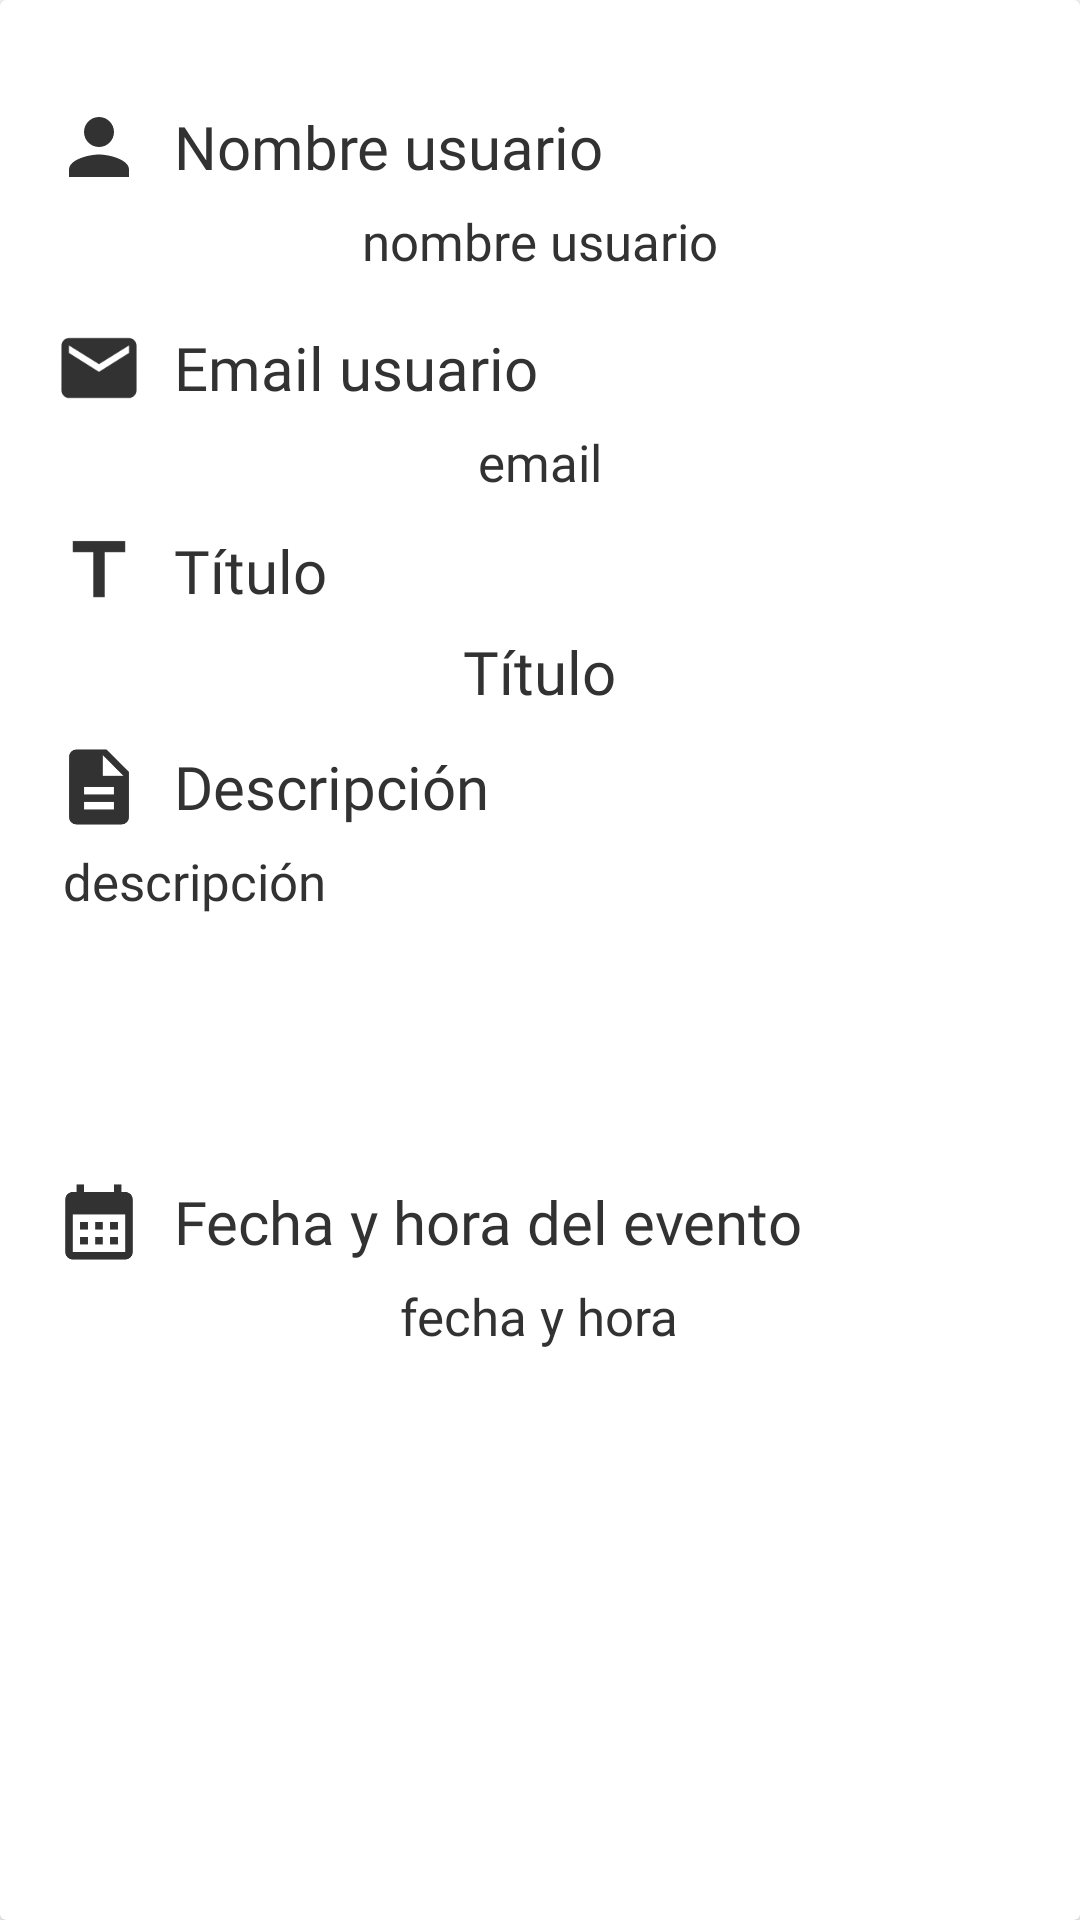

Where icons sit on this 1080×1920 app screen, as [x1,y1,x2,y2]:
calendar: [65,1184,133,1260]
person: [69,117,129,177]
title: [72,541,126,598]
